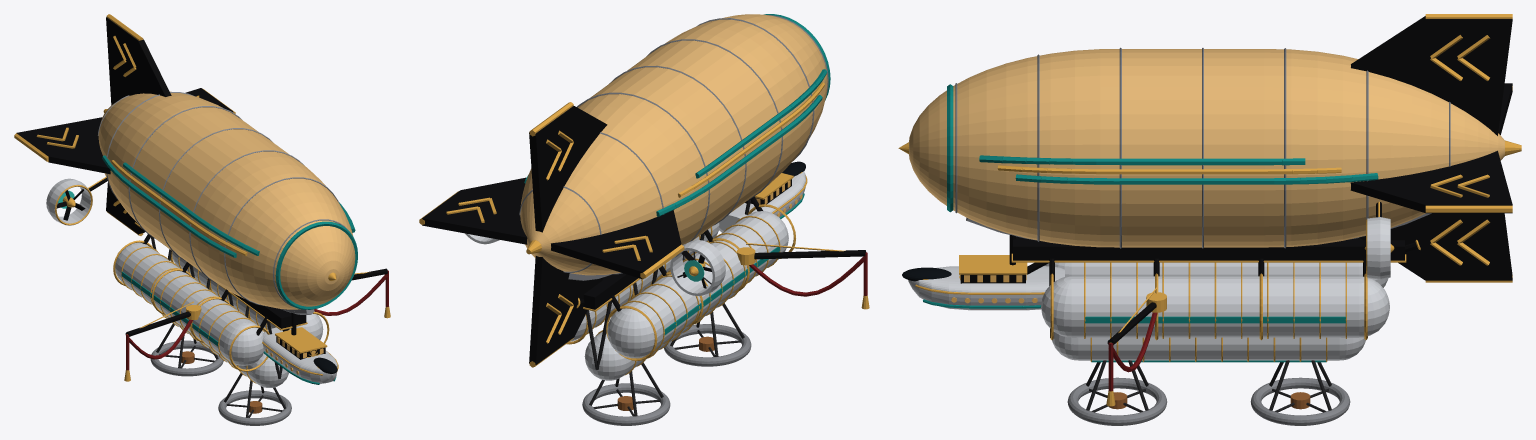
Rendered from steam_tender.obj.
The picture shows the model from 3 angles, left to right: view 1: azimuth 30°, elevation 25°; view 2: azimuth 150°, elevation 25°; view 3: azimuth 270°, elevation 25°; orthographic projection. The views are drawn at different scales.
Parts seen in each view (by area): view 1: steam_tender; view 2: steam_tender; view 3: steam_tender.
Boxes of the visible parts, bbox=[...] form: steam_tender: bbox=[14, 14, 390, 425]; steam_tender: bbox=[419, 14, 869, 425]; steam_tender: bbox=[898, 14, 1521, 425].
Bounding box in the file's own units: 332 × 348 × 500.
Materials: 1 (1 with a texture image).
